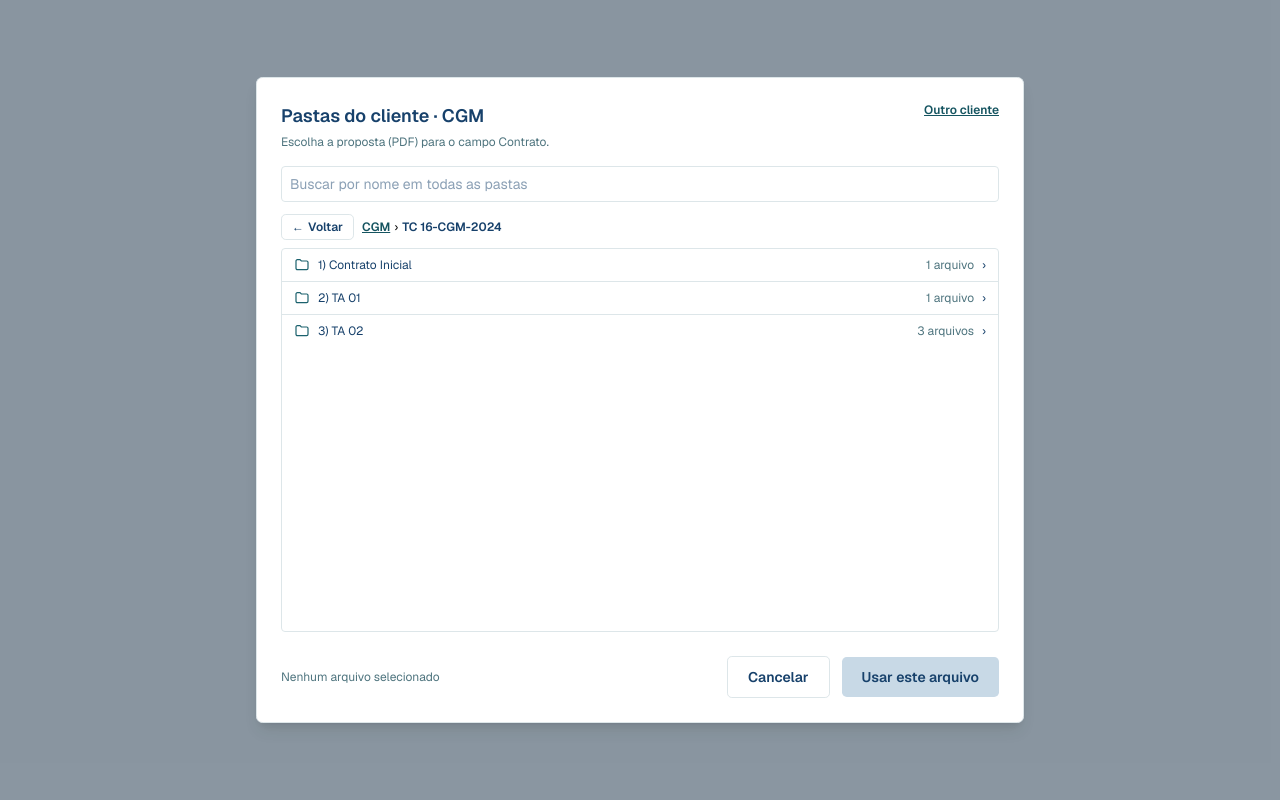
Test: a busca mostra a pasta de cada arquivo, numa segunda linha
The width and height of the screenshot is (1280, 800).
Type "230726" into the search field named "Buscar arquivo nas pastas".
click(640, 184); type("230726")  # box [281,166,999,202]
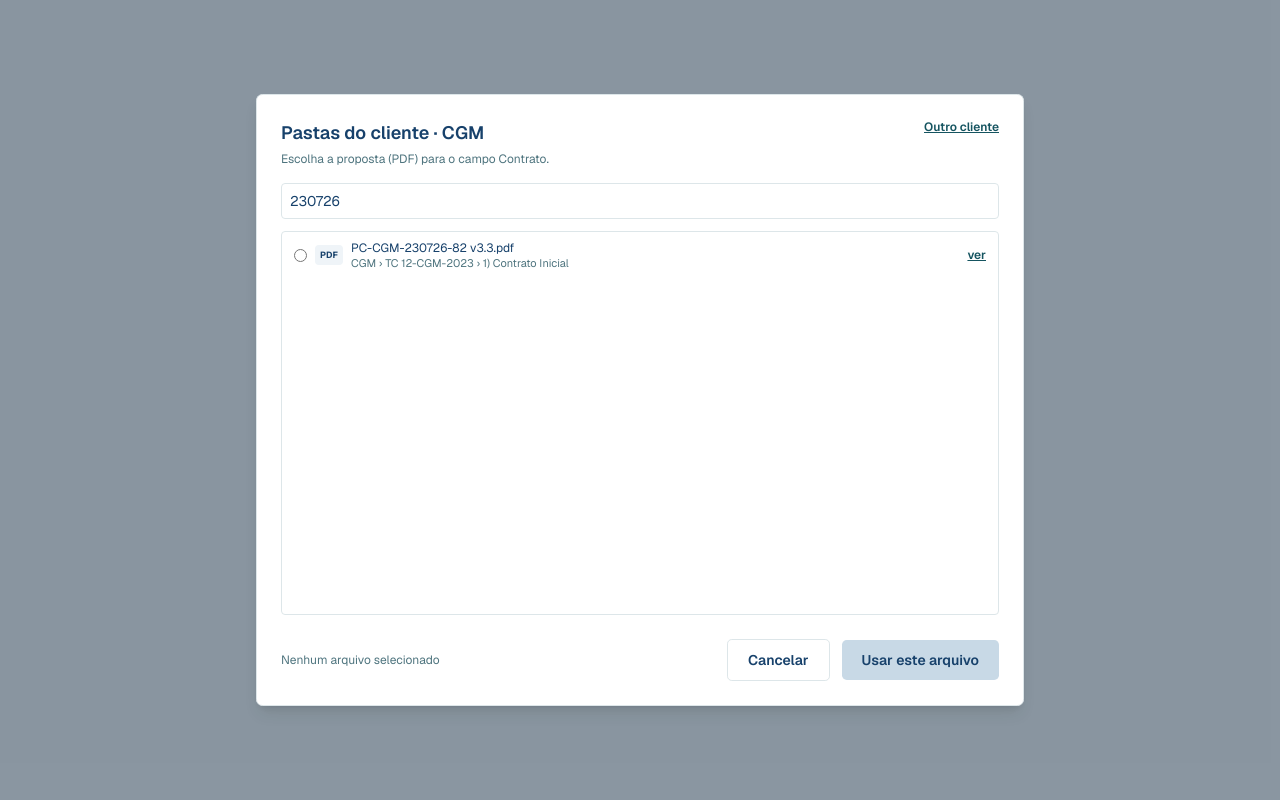
Check: the text "CGM › TC 12-CGM-2023 › 1) Contrato Inicial" is shown, box [351,256,569,270]
